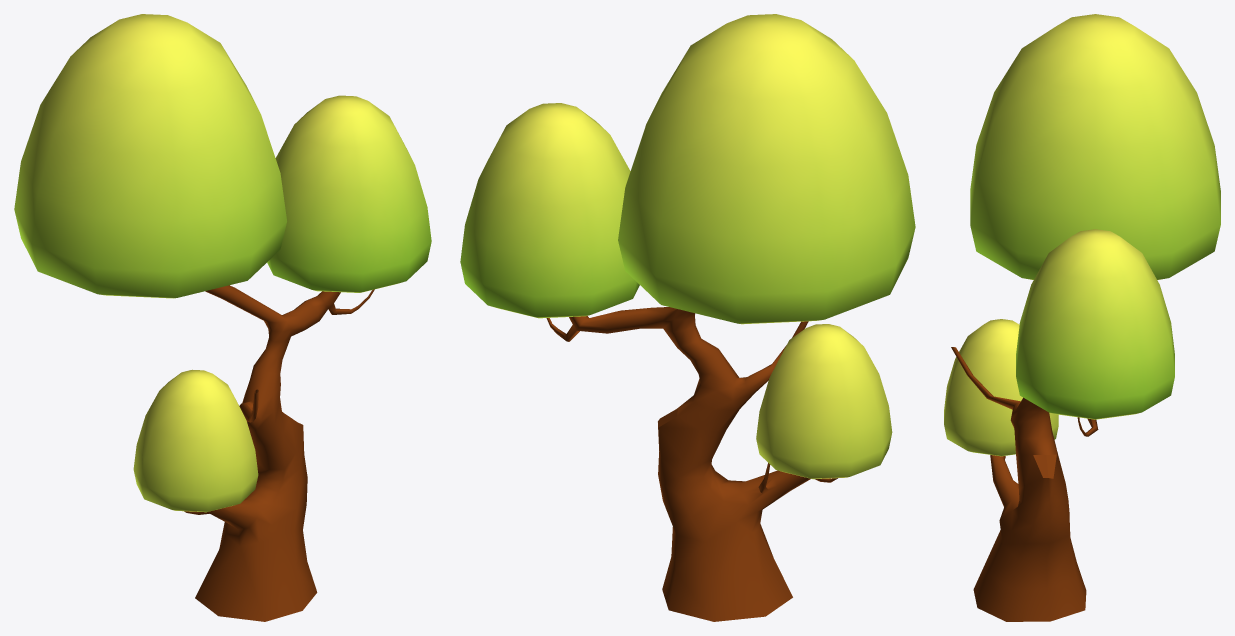
File: SM_Tree_36.fbx
3 views of the same model, side by side, from view 1: azimuth 30°, elevation 25°; view 2: azimuth 150°, elevation 25°; view 3: azimuth 270°, elevation 25° (orthographic). The views are drawn at different scales.
Parts seen in each view (by area): view 1: SM_Tree_36; view 2: SM_Tree_36; view 3: SM_Tree_36.
Part boxes in pixels (x1,y1,x2,y2): SM_Tree_36: [14, 14, 431, 621]; SM_Tree_36: [460, 14, 915, 621]; SM_Tree_36: [944, 14, 1220, 621].
Bounding box in the file's own units: 906 × 1255 × 581.
